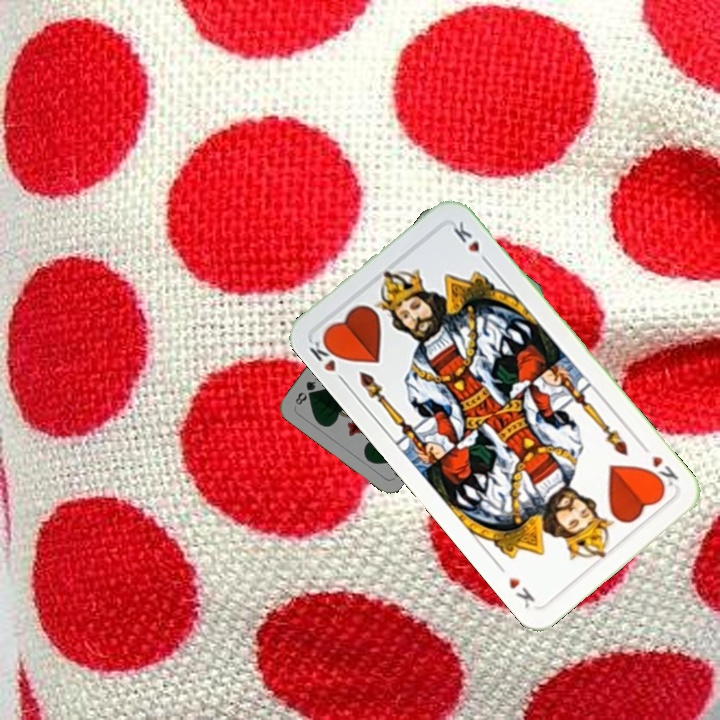HK: (305, 332, 349, 387), (643, 452, 681, 492)
